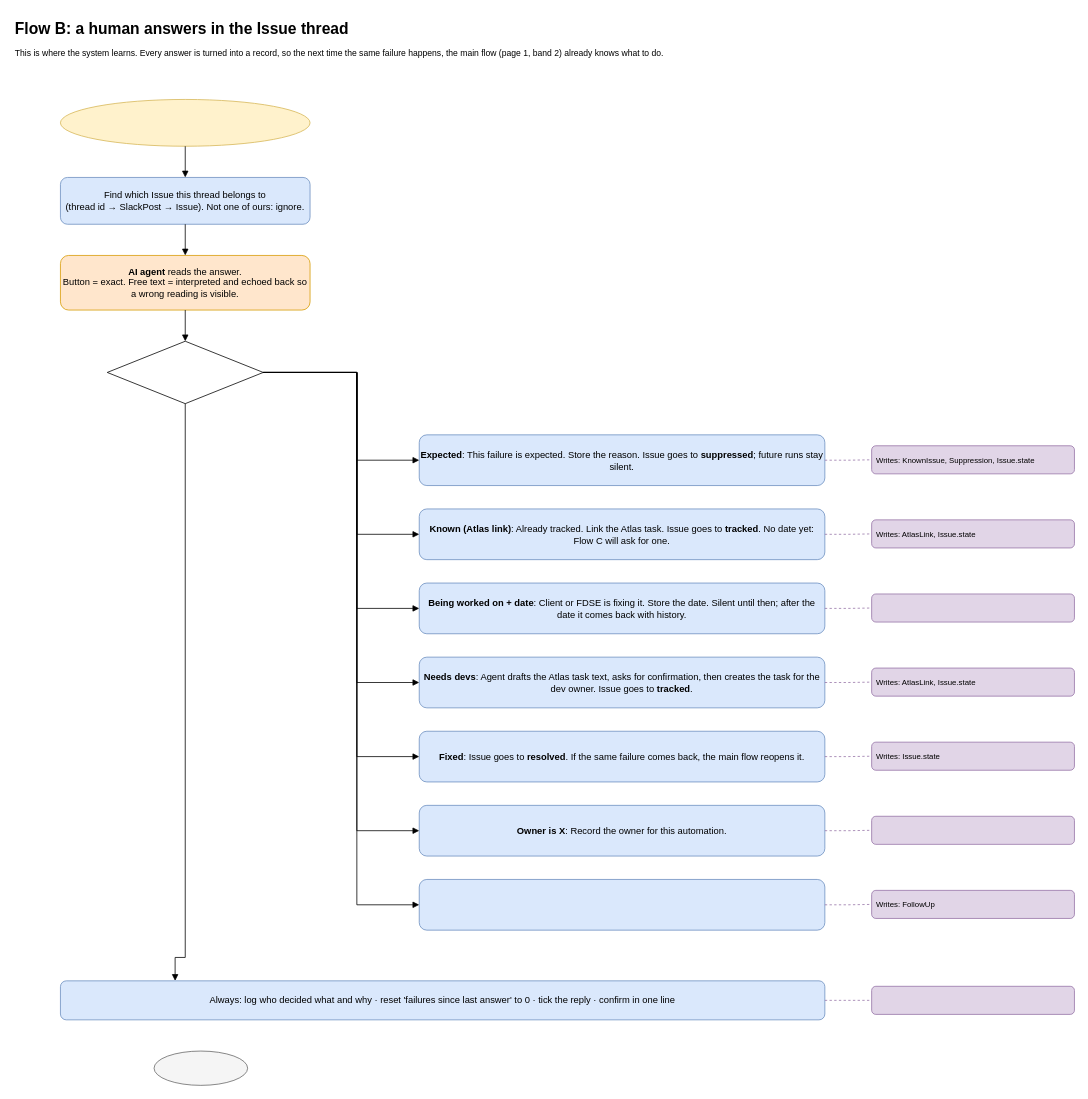
Some shapes in this 1088 by 1099 pixel diagram are drawn without their labels. Each missing label, with the centre of its shape:
"Done" belongs at point (200, 1067).
"Not sure : Tag the manager in the thread. Issue stays as it is." belongs at point (621, 904).
"Someone clicks a button or replies in an Issue thread in #alerts-finance-issues" belongs at point (185, 122).
"What did they say?" belongs at point (184, 372).
"Writes: DecisionLog, Issue.countSinceLastAck" belongs at point (972, 1000).
"Writes: ETA, Suppression (until date), Issue.state" belongs at point (972, 607).
"Writes: WorkflowRegistry.owner, OwnerDirectory" belongs at point (972, 829).
